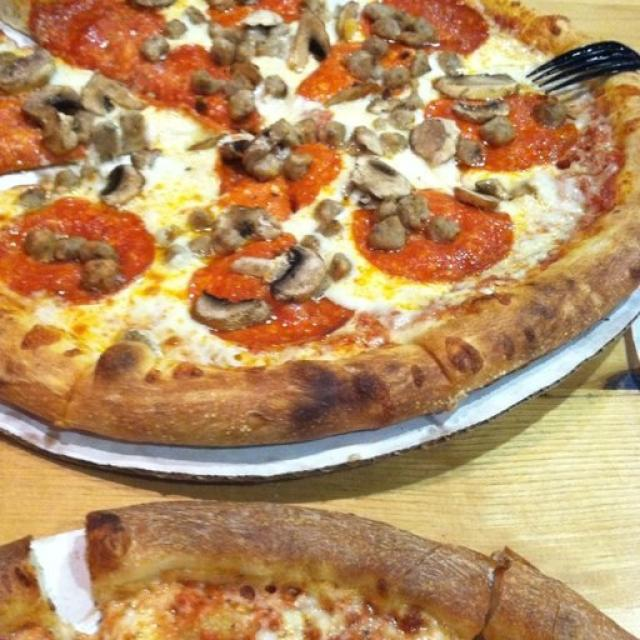Mushrooms: (230, 243, 323, 298), (220, 119, 301, 181), (24, 85, 80, 155), (364, 2, 439, 48), (212, 205, 281, 252), (192, 292, 271, 330), (82, 72, 145, 115), (288, 10, 330, 71), (0, 48, 55, 94), (351, 158, 411, 199), (410, 119, 460, 165), (434, 74, 519, 100), (100, 165, 145, 206), (191, 70, 254, 96), (81, 259, 126, 292), (210, 22, 244, 65), (454, 99, 510, 124), (370, 215, 406, 250), (91, 120, 122, 160), (478, 180, 536, 200), (256, 24, 290, 58), (534, 96, 568, 129), (120, 111, 148, 151), (399, 194, 430, 229), (479, 116, 515, 146), (24, 229, 58, 259), (454, 188, 499, 210), (191, 69, 226, 95), (426, 215, 460, 241), (353, 126, 384, 154), (229, 89, 256, 121), (79, 240, 118, 261), (456, 138, 486, 165), (140, 34, 170, 61), (284, 152, 312, 180), (346, 50, 372, 80), (56, 236, 86, 261), (74, 110, 96, 144), (382, 65, 411, 90), (212, 36, 236, 65), (19, 186, 49, 209), (257, 36, 288, 58), (478, 179, 510, 200), (328, 252, 351, 281), (380, 132, 408, 155), (314, 199, 342, 222), (362, 2, 395, 21), (320, 120, 344, 146), (189, 235, 216, 258), (155, 225, 182, 248), (189, 134, 225, 151), (374, 16, 399, 40), (368, 96, 401, 114), (131, 150, 160, 170), (189, 209, 215, 230), (304, 110, 332, 129), (266, 75, 288, 99), (400, 90, 424, 111), (56, 169, 80, 189), (164, 19, 188, 39), (318, 219, 342, 238), (390, 109, 414, 128), (236, 40, 256, 62), (296, 120, 316, 142), (378, 199, 398, 220), (185, 6, 208, 24), (301, 235, 320, 251), (81, 166, 99, 180)
Pepperoni: (183, 233, 358, 348), (0, 198, 155, 302), (352, 190, 512, 282), (427, 88, 582, 173), (219, 128, 347, 223), (128, 43, 258, 135), (30, 0, 164, 81), (299, 44, 437, 102), (1, 95, 85, 174), (384, 0, 488, 54), (200, 0, 322, 27)
Pizza: (0, 0, 640, 446), (1, 502, 630, 640)
